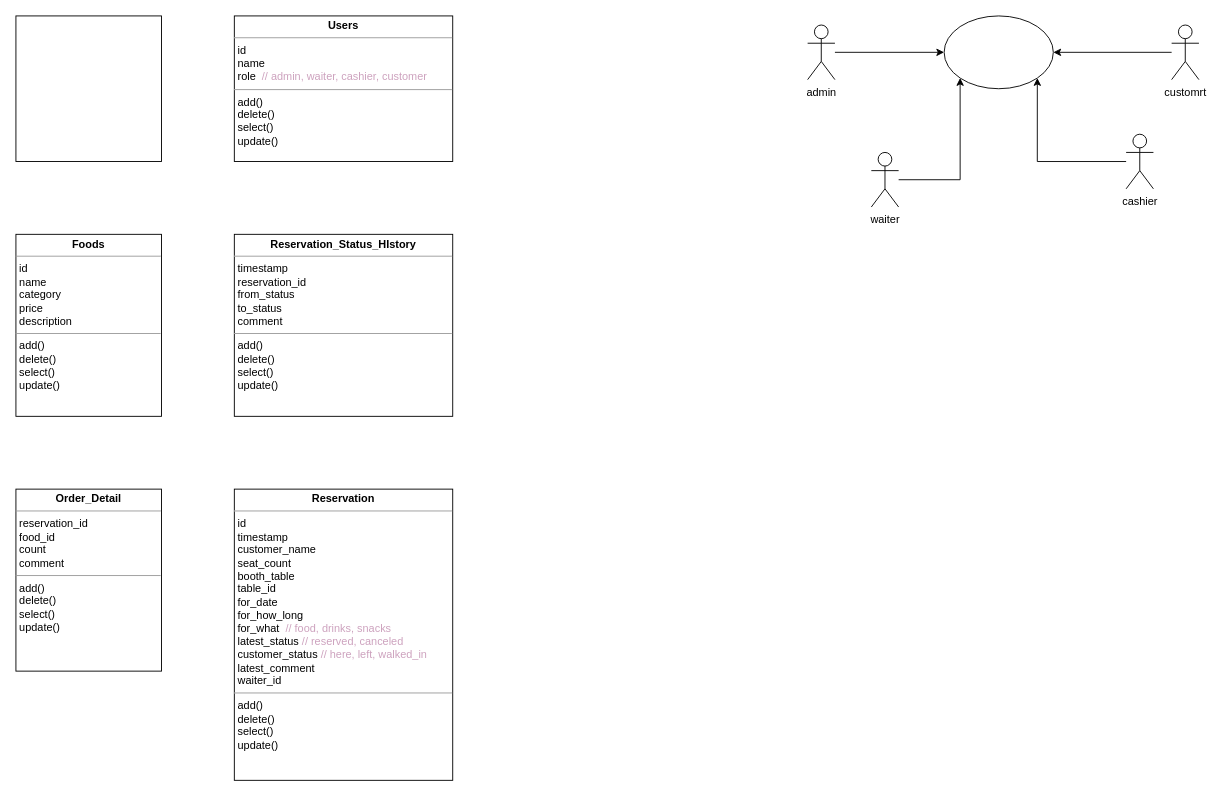
The diagram is 1222 pixels wide and 796 high, and some of its shapes have lost their labels. Here are the shapes that lost their labels. From the top down, the centre of each, then its label:
point 998,52: Restaurant App
point 88,88: Tables id seat_count booth_table add() delete() select() update()
